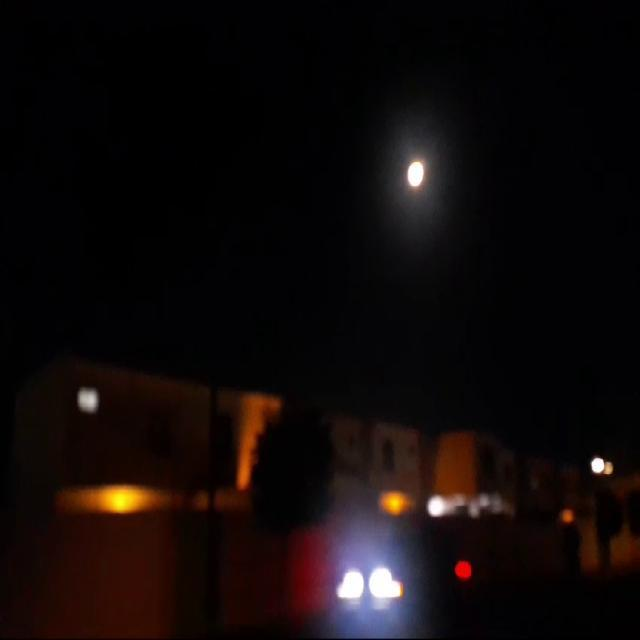moon: (404, 152, 424, 186)
